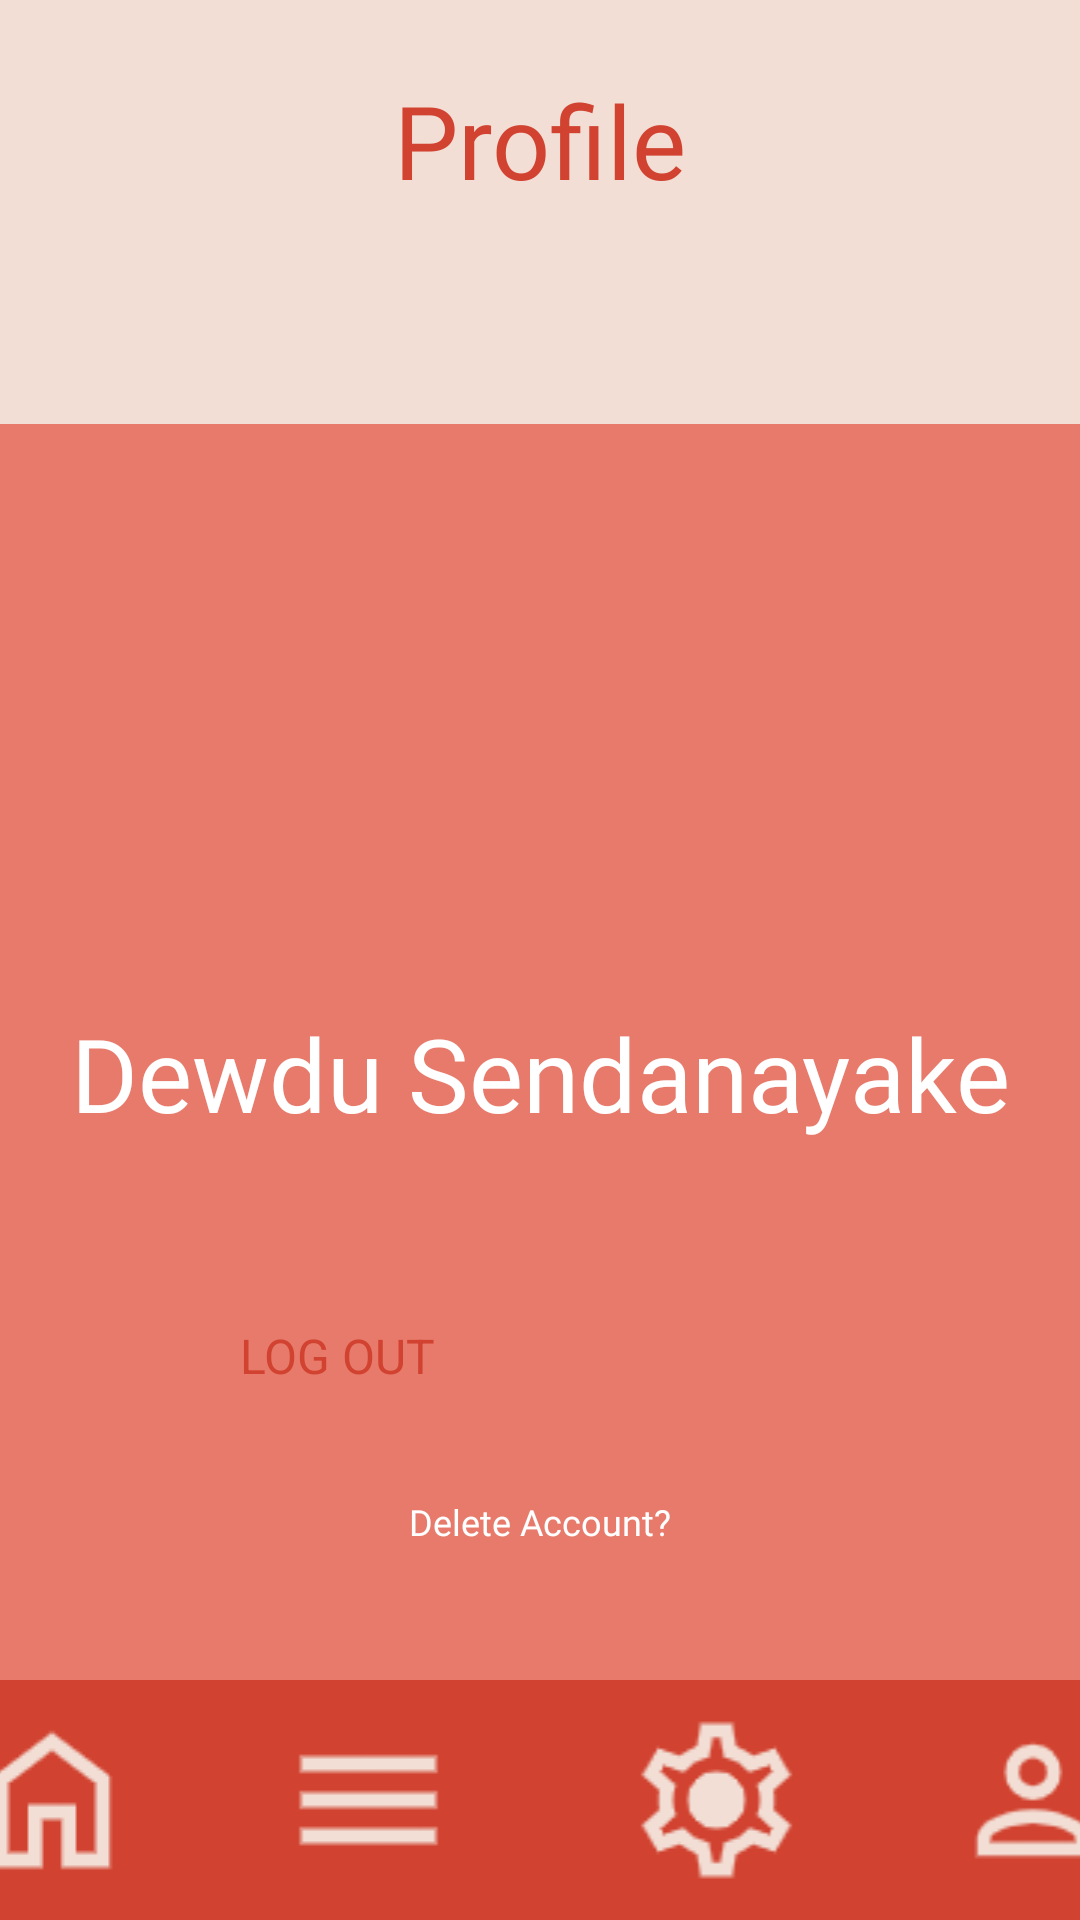

Screen size 1080 x 1920. Icon name, then its center in pixels as point (x, y):
Settings: point (716, 1800)
